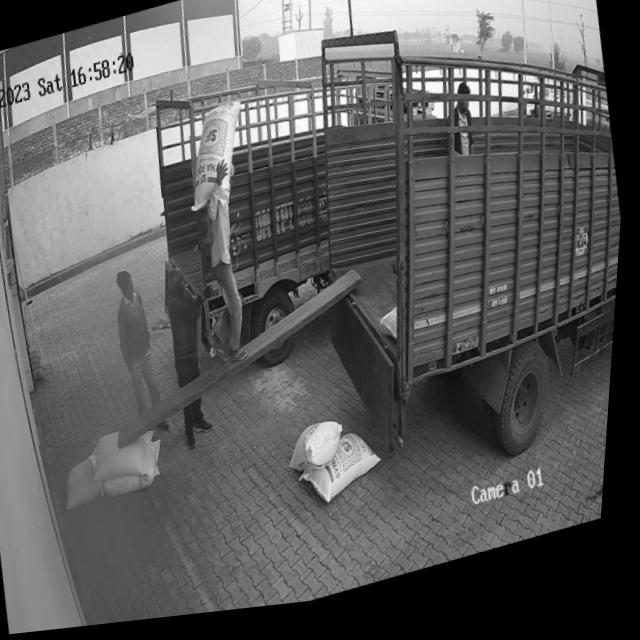sack: (179, 102, 258, 218), (298, 433, 393, 518), (91, 425, 166, 495), (102, 442, 172, 503), (288, 423, 354, 486), (65, 456, 112, 514)
